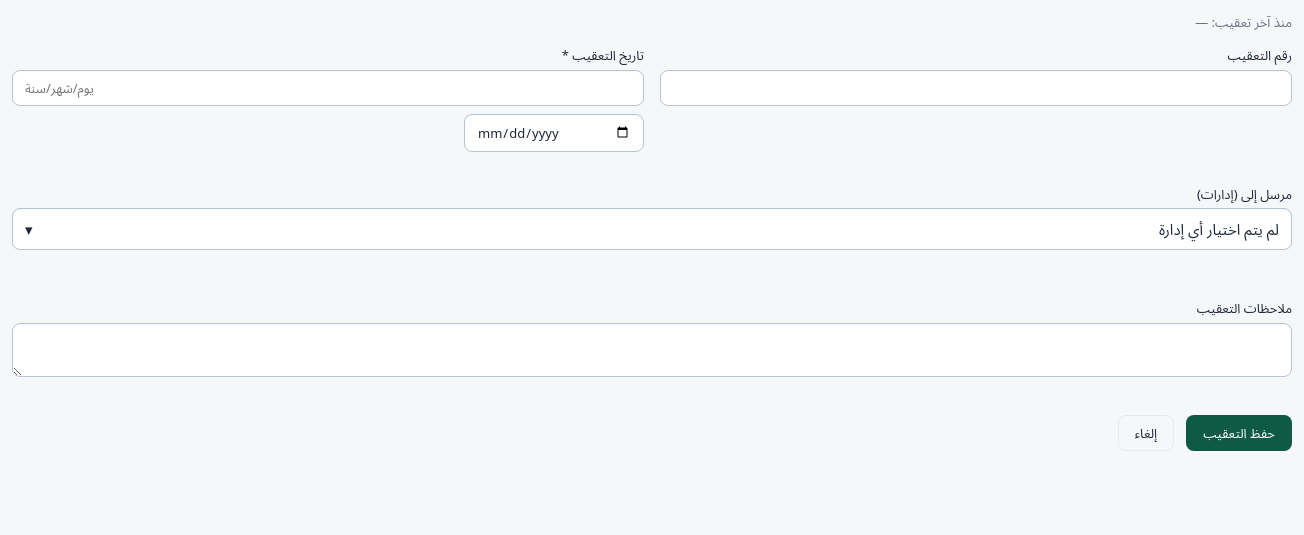
Test: FollowUpFormPanel › prevents save without selected departments
The image size is (1304, 535).
Click the button "حفظ التعقيب".
click(1239, 433)  # box left=1186, top=415, right=1292, bottom=451
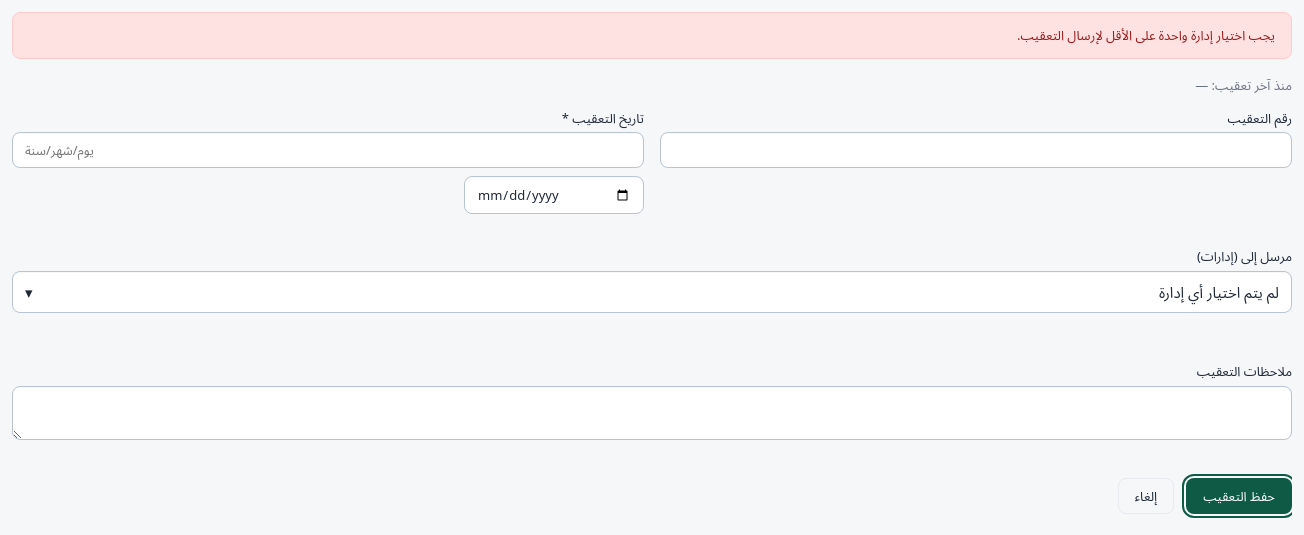
Expected: the text "يجب اختيار إدارة واحدة على الأقل لإرسال التعقيب." is shown, left=12, top=12, right=1292, bottom=59
